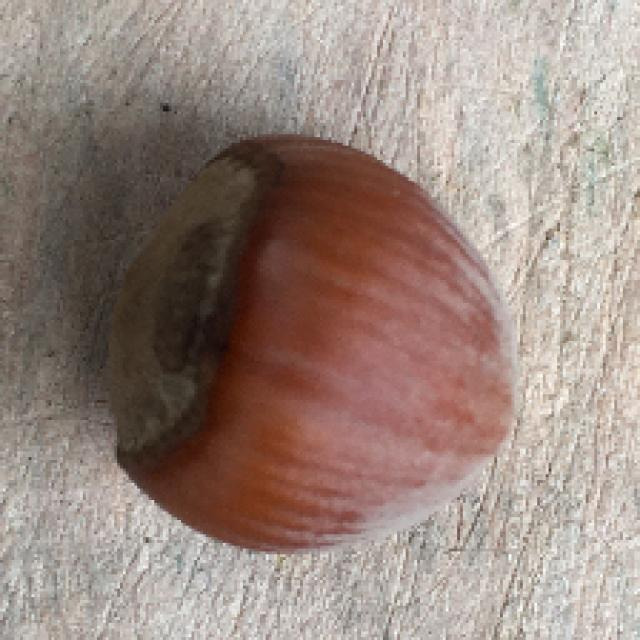qualityHazelnut: (114, 132, 523, 559)
